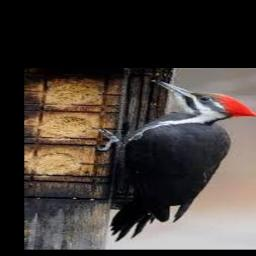Woodpecker: (95, 79, 256, 241)
